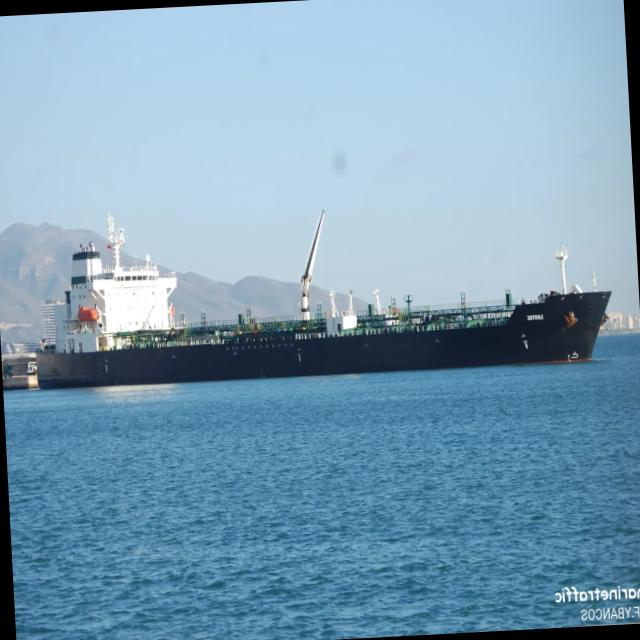Tanker: (38, 211, 611, 388)
